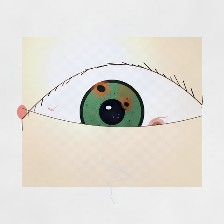foreign_body_visible: (78, 70, 124, 107)
